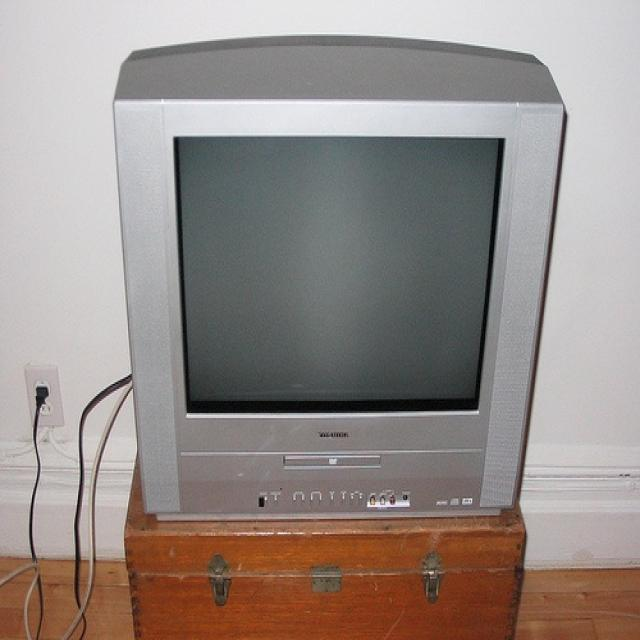tvmonitor: (115, 44, 567, 524)
